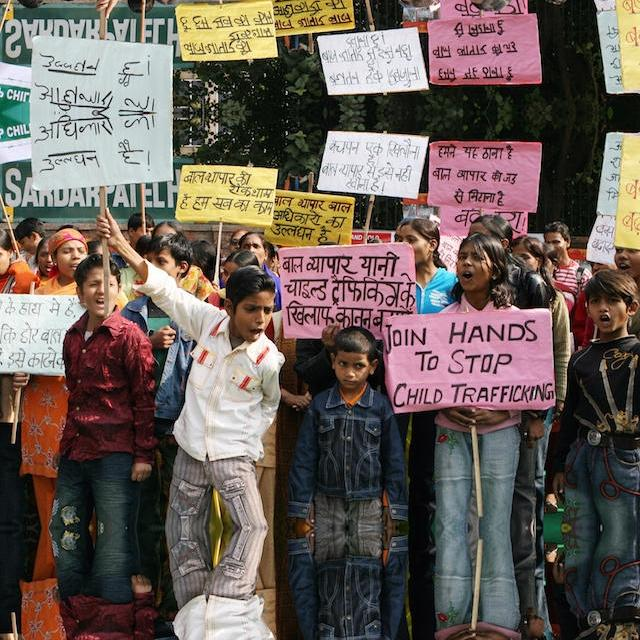person: (185, 267, 285, 527), (66, 252, 158, 528), (446, 233, 530, 527), (562, 269, 640, 527), (314, 329, 396, 527), (185, 527, 285, 640), (66, 526, 158, 640), (445, 527, 530, 640), (313, 527, 396, 640), (562, 527, 640, 640)
